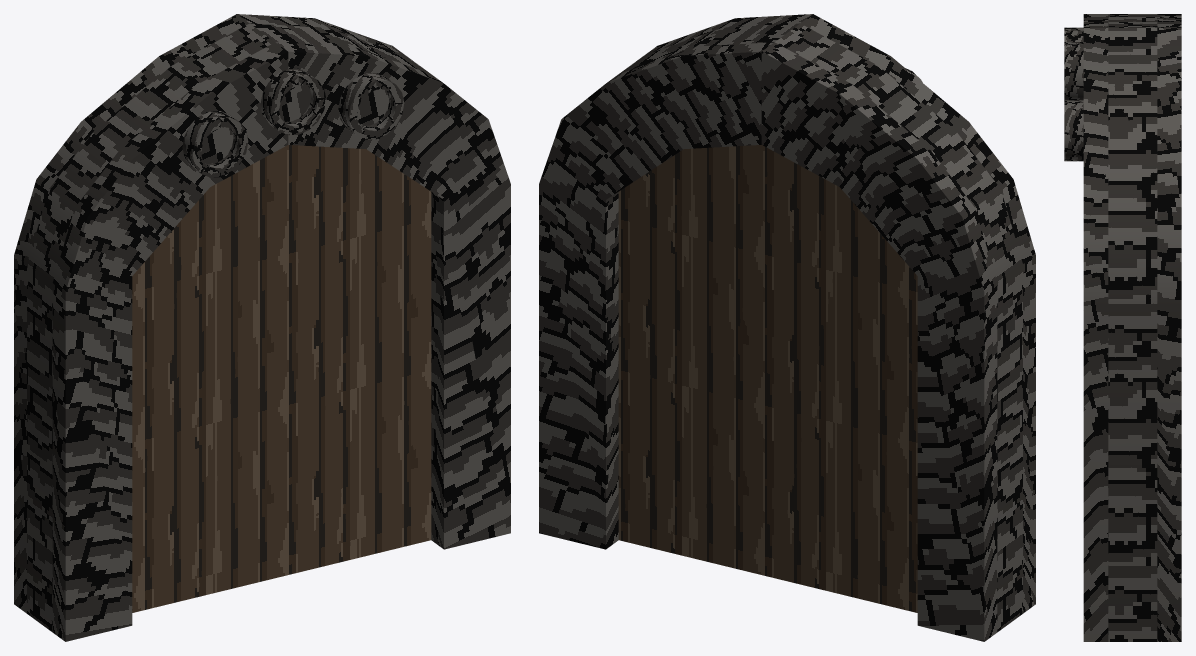
Rendered from Door.fbx.
3 views of the same model, side by side, from view 1: azimuth 30°, elevation 25°; view 2: azimuth 150°, elevation 25°; view 3: azimuth 270°, elevation 25° (orthographic). The views are drawn at different scales.
Visible parts, largest first — view 1: Door; view 2: Door; view 3: Door.
Boxes of the visible parts, x1,y1,x2,y2 form: Door: [14, 14, 510, 641]; Door: [539, 14, 1035, 641]; Door: [1064, 14, 1181, 641].
Size of the model in its own units: 2 by 2.3 by 0.48.
